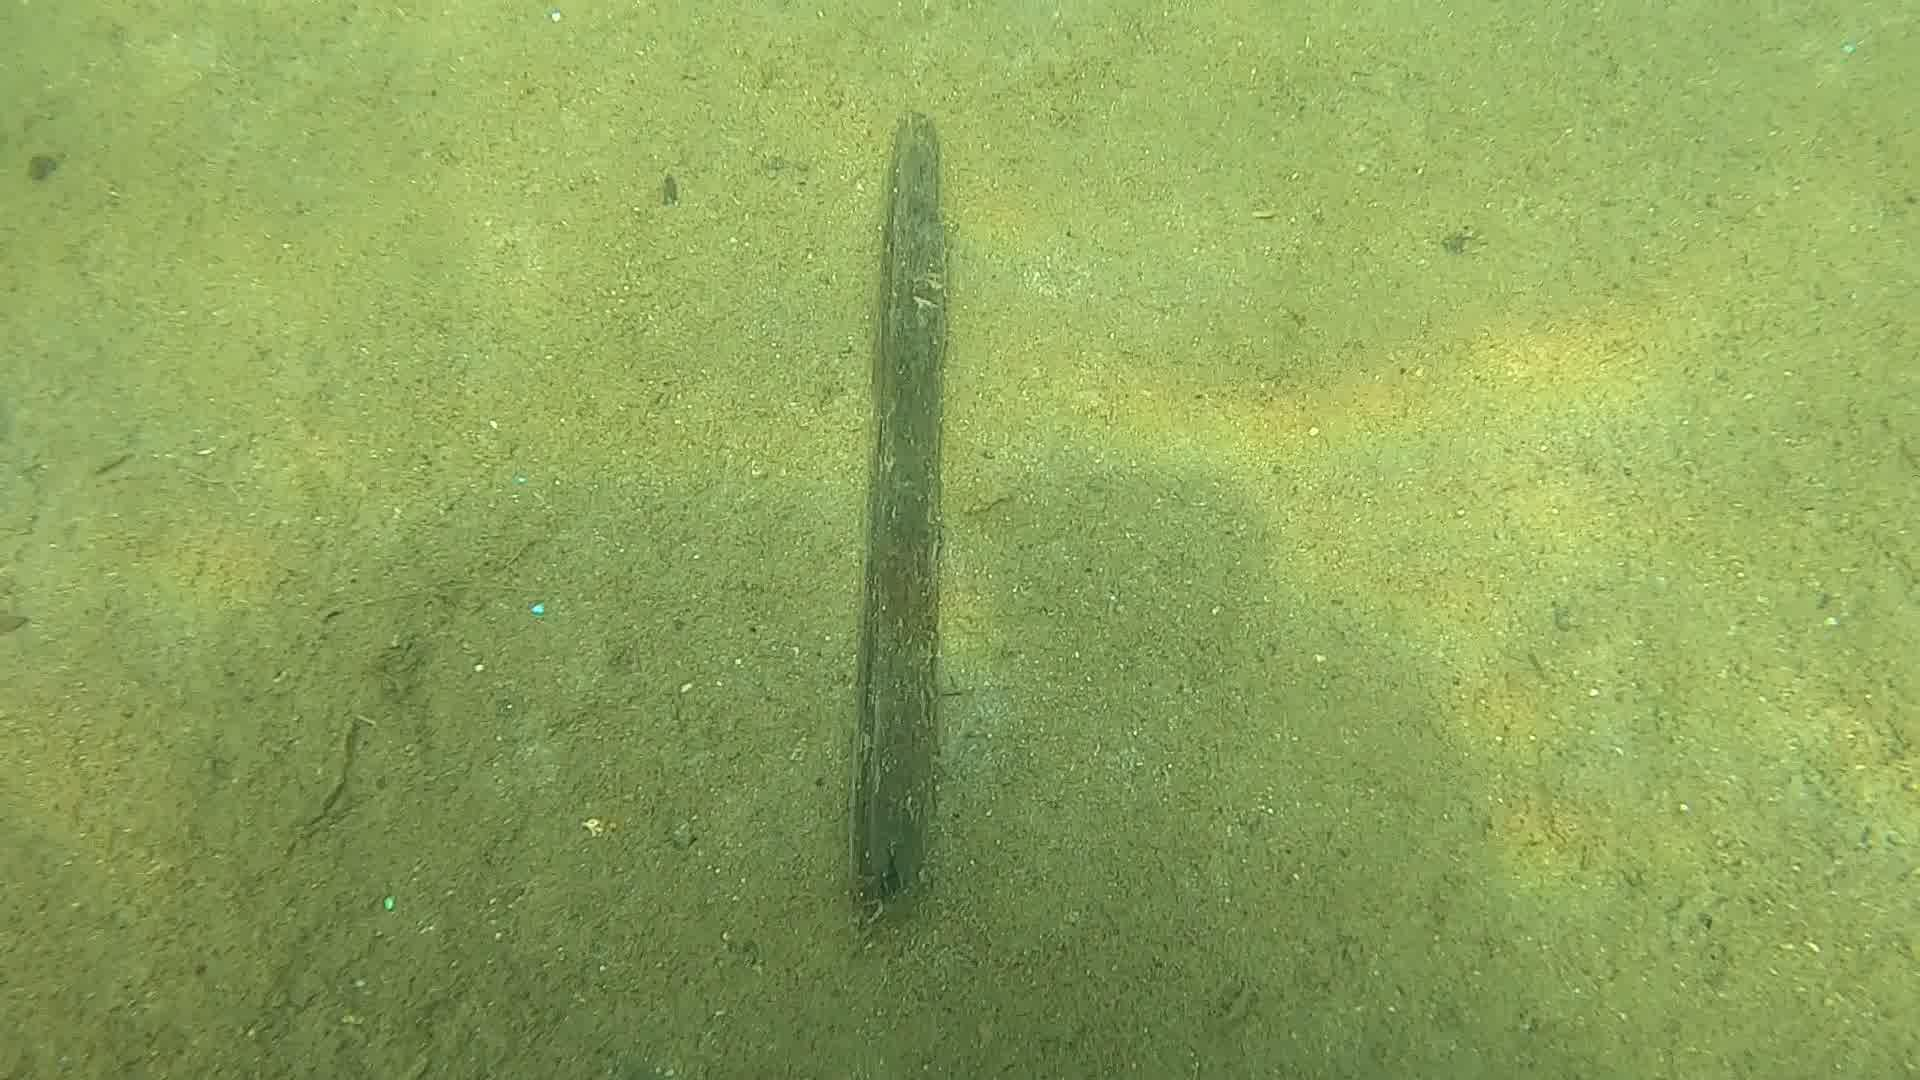wood: (845, 105, 947, 922)
